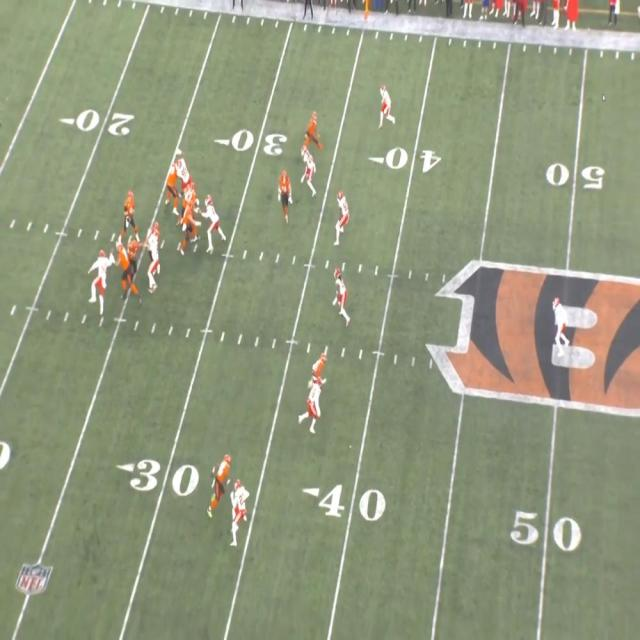db: (231, 481, 254, 538), (304, 378, 322, 432), (554, 297, 564, 353), (302, 148, 316, 187), (380, 87, 393, 127)
lb: (334, 190, 349, 236), (333, 272, 347, 314)
qb: (124, 191, 134, 231)
skill: (215, 456, 235, 505), (125, 240, 141, 296), (276, 167, 292, 222), (304, 112, 319, 146), (310, 352, 324, 388)
